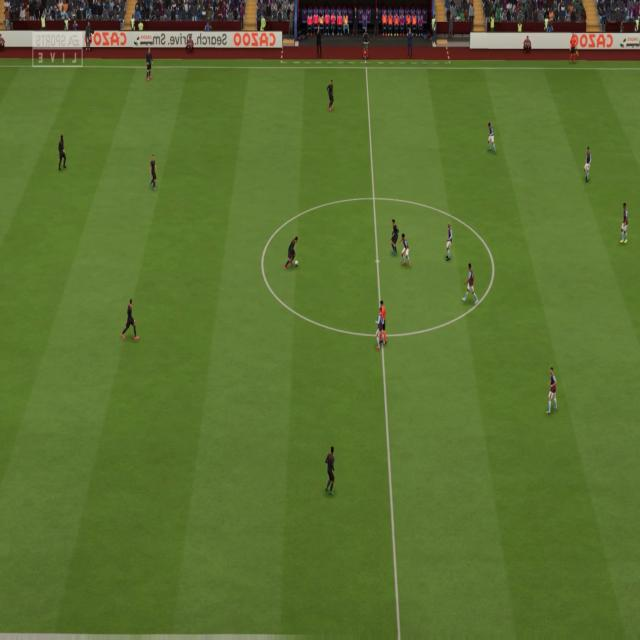Ball: (292, 258, 300, 268)
Referee: (377, 299, 388, 346)
Team-A: (120, 296, 139, 342), (284, 233, 299, 273), (325, 444, 336, 498), (389, 217, 399, 260), (147, 153, 158, 191), (57, 133, 67, 173), (327, 82, 336, 115), (145, 47, 153, 83)
Team-H: (461, 260, 479, 310), (546, 363, 558, 419), (619, 199, 632, 249), (581, 144, 593, 186), (398, 232, 411, 270), (486, 118, 498, 157), (375, 307, 386, 349), (444, 222, 454, 264)
